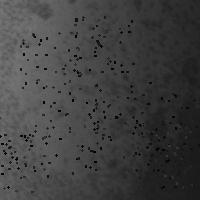pitted_surface: (82, 1, 184, 187), (1, 1, 78, 200), (144, 98, 200, 200), (127, 117, 186, 177), (20, 32, 79, 92), (42, 99, 102, 155), (133, 130, 191, 187), (74, 16, 132, 73), (95, 82, 149, 139), (146, 93, 200, 149), (0, 117, 48, 175), (72, 122, 126, 172), (0, 132, 32, 192)
